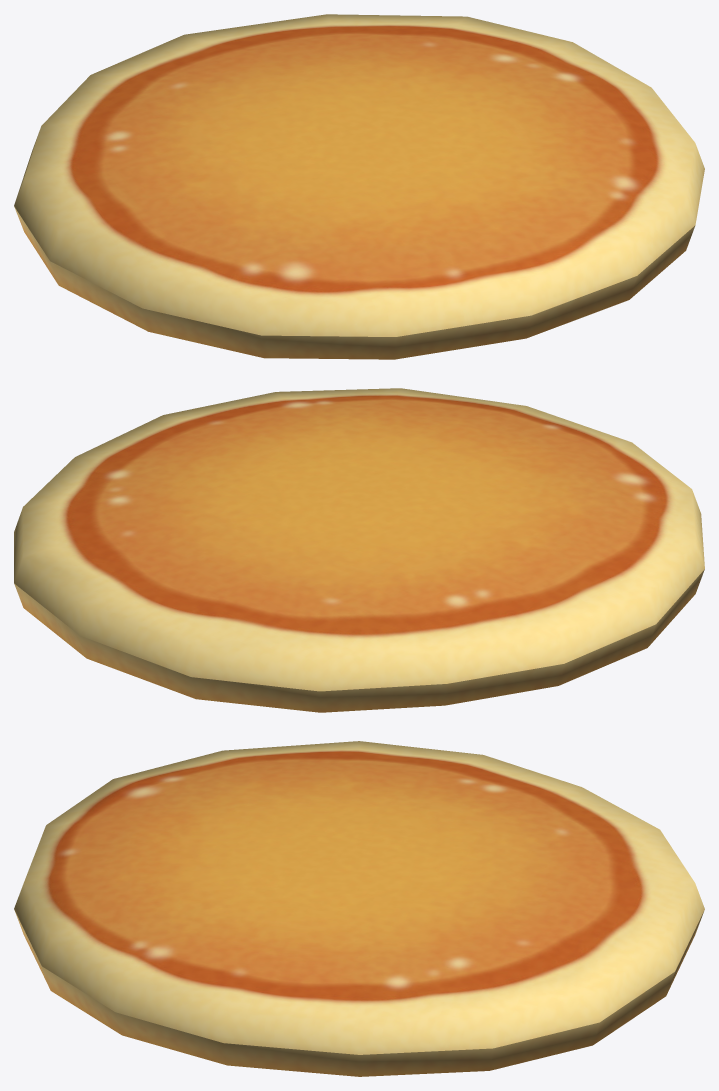
The model's file is Pancake.fbx.
3 views of the same model, one above another, from view 1: azimuth 30°, elevation 25°; view 2: azimuth 150°, elevation 25°; view 3: azimuth 270°, elevation 25° (orthographic). The views are drawn at different scales.
Parts seen in each view (by area): view 1: Pancake_1; view 2: Pancake_1; view 3: Pancake_1.
Boxes of the visible parts, bbox=[...] form: Pancake_1: bbox=[14, 14, 704, 359]; Pancake_1: bbox=[14, 388, 704, 712]; Pancake_1: bbox=[14, 741, 704, 1076].
Bounding box in the file's own units: 54.65 × 8.9 × 54.64.
Materials: 1 (1 with a texture image).
